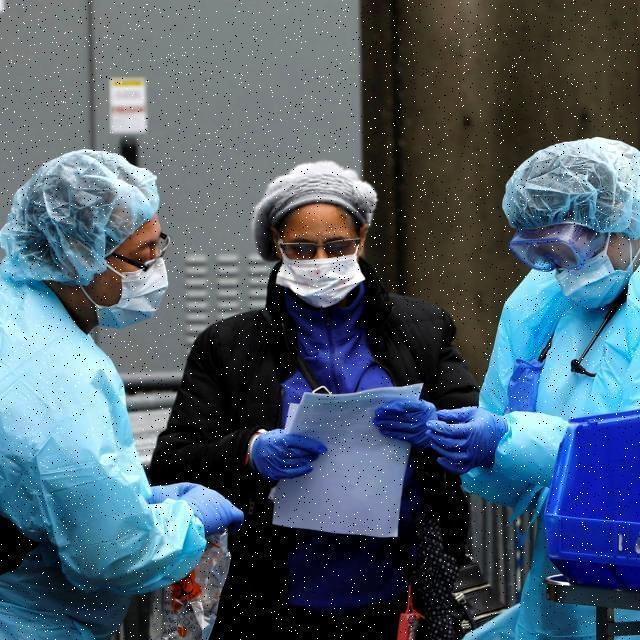apron: (434, 393, 498, 473), (248, 433, 320, 478), (374, 402, 430, 452), (178, 490, 246, 530), (152, 478, 216, 506)
